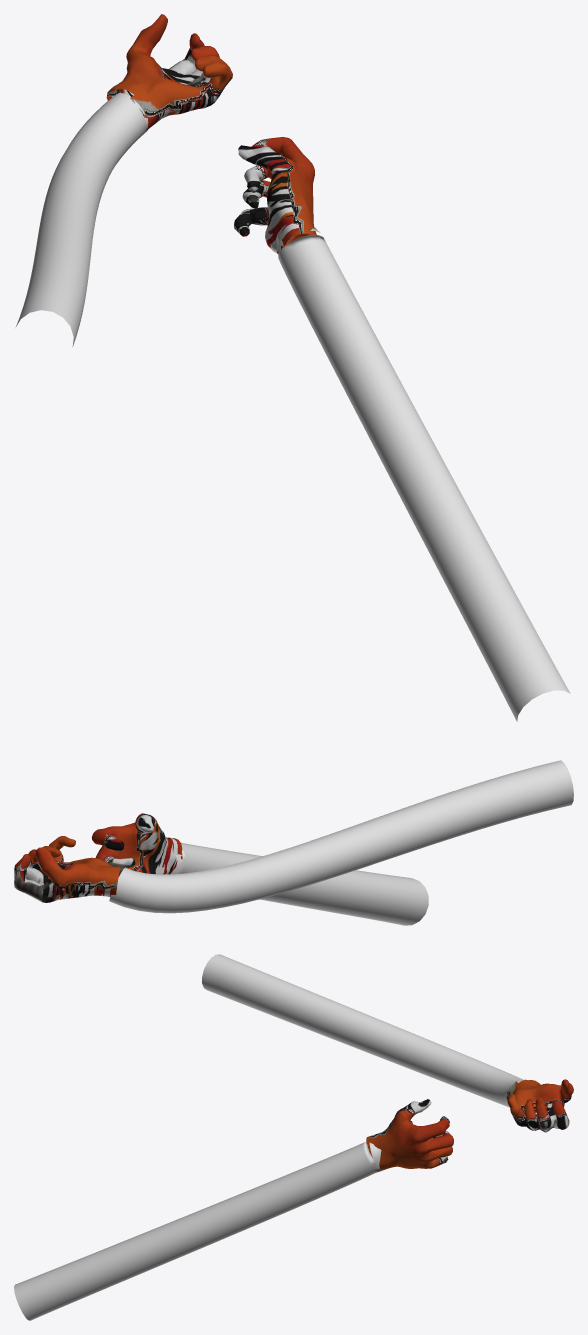
File: fpa_ak47.glb
3 views of the same model, one above another, from view 1: azimuth 30°, elevation 25°; view 2: azimuth 150°, elevation 25°; view 3: azimuth 270°, elevation 25° (orthographic). The views are drawn at different scales.
Parts seen in each view (by area): view 1: arms, hands; view 2: arms, hands; view 3: arms, hands.
Part boxes in pixels (x1,y1,x2,y2): arms: [15, 92, 570, 721]; hands: [106, 14, 316, 253]; arms: [109, 760, 573, 925]; hands: [14, 813, 182, 902]; arms: [14, 954, 523, 1320]; hands: [366, 1079, 573, 1172].
Size of the model in its own units: 0.8577 by 0.7128 by 1.42.
Materials: 1 (1 with a texture image).
